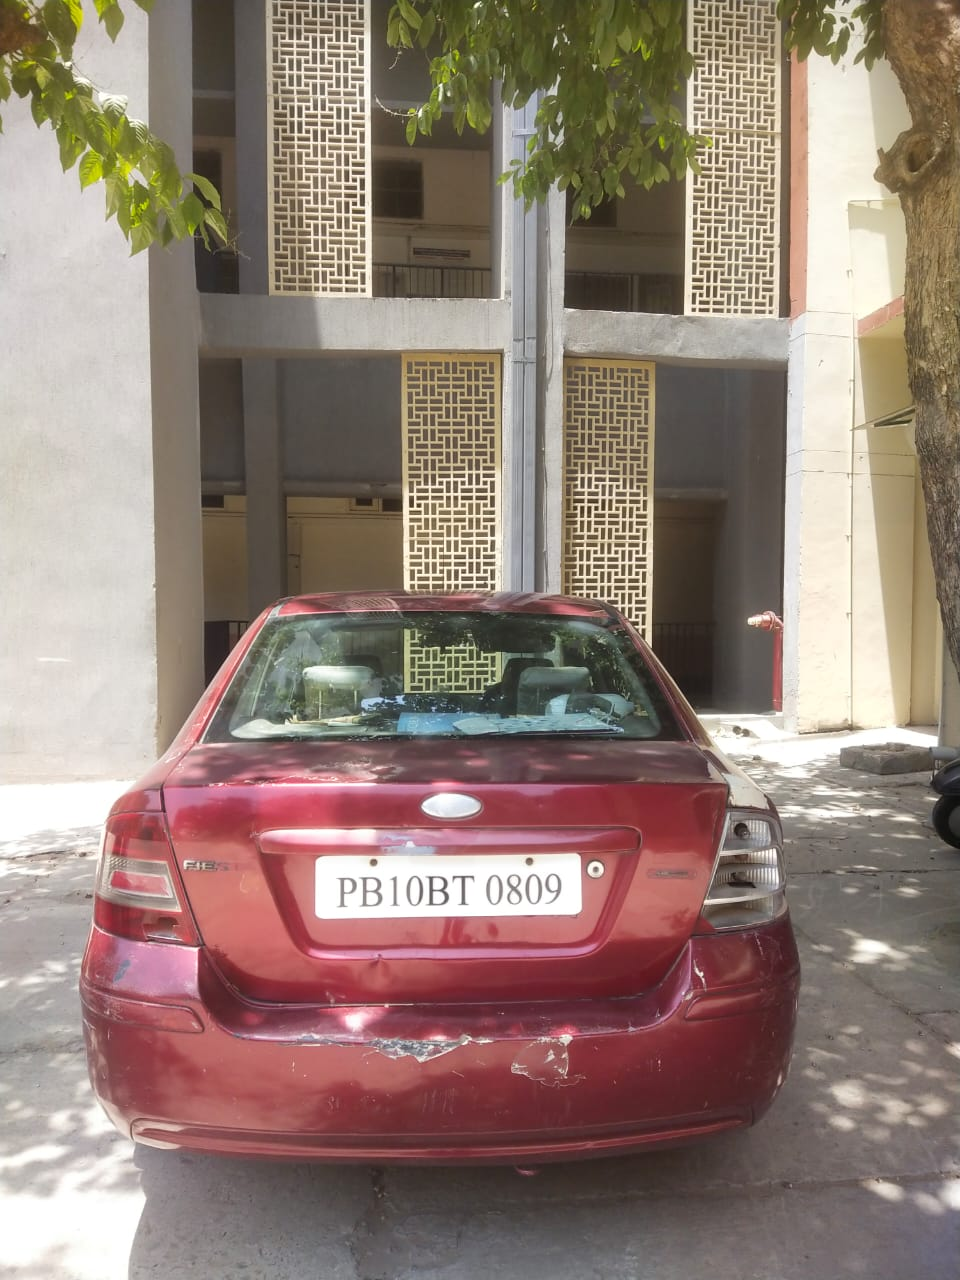license plate: (315, 853, 581, 918)
